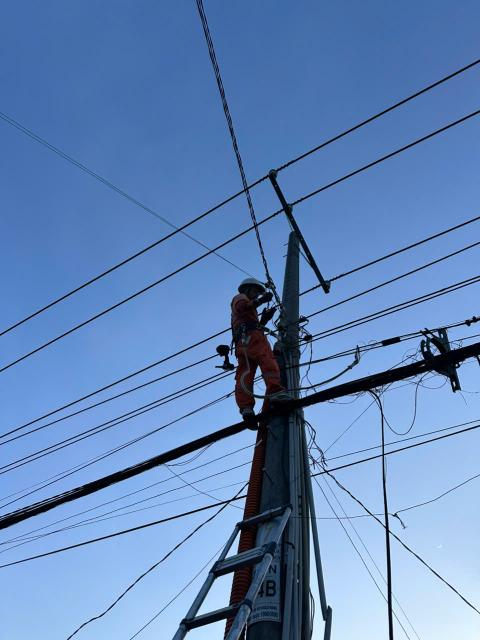harness: (224, 320, 277, 340)
helmet: (229, 274, 271, 296)
shoes: (259, 388, 298, 409), (241, 403, 262, 433)
